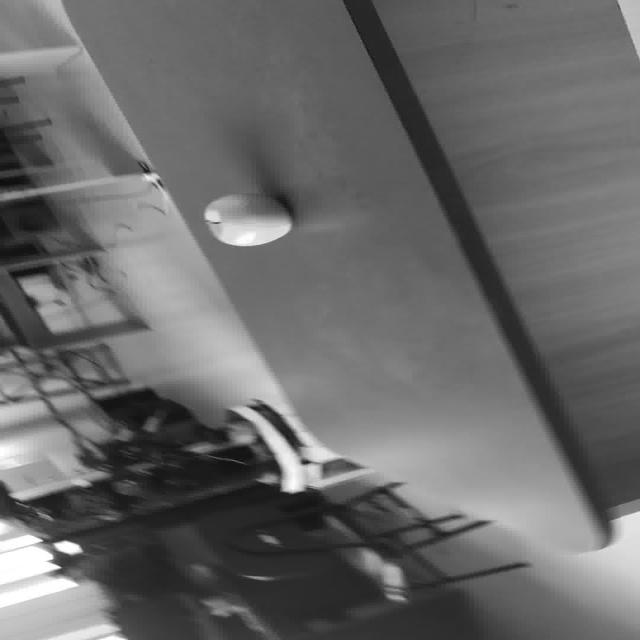apple: (202, 192, 292, 246)
